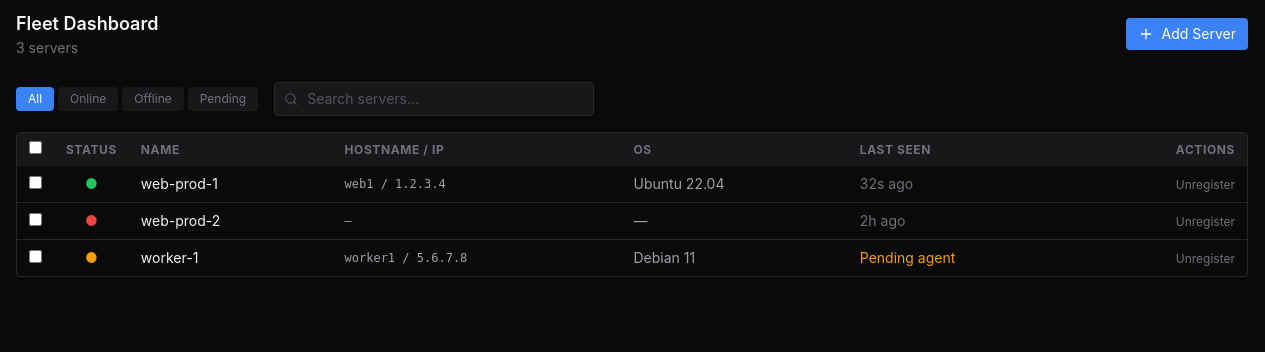
Test: DashboardPage › deselects all when header checkbox clicked again
Click the checkbox next to "Status": click(36, 148) [29,141,42,154]
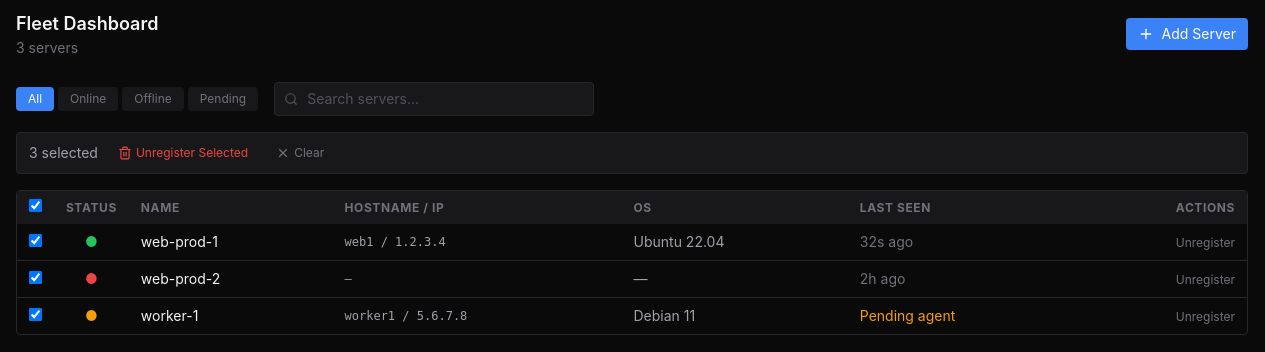
Expected: the text "3 selected" is shown, [29,143,98,163]
Click the checkbox next to "Status": click(36, 206) [29,199,42,212]
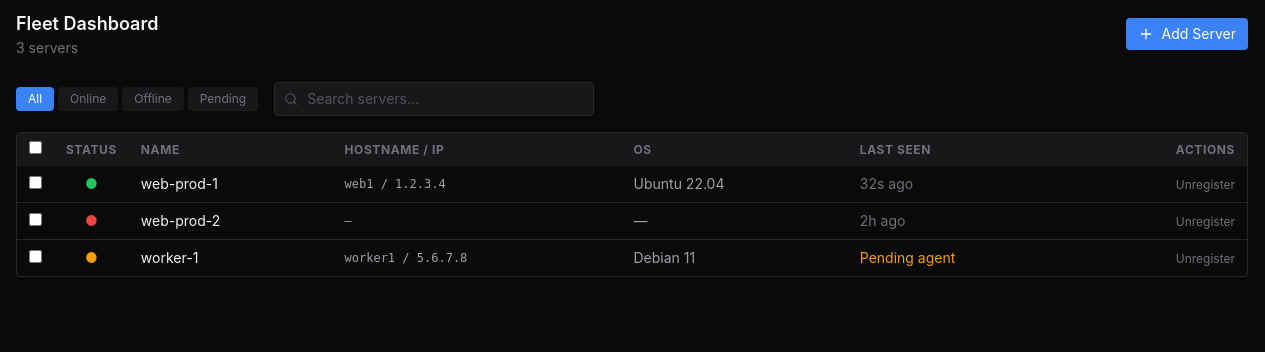
Expected: the text "3 selected" is gone
